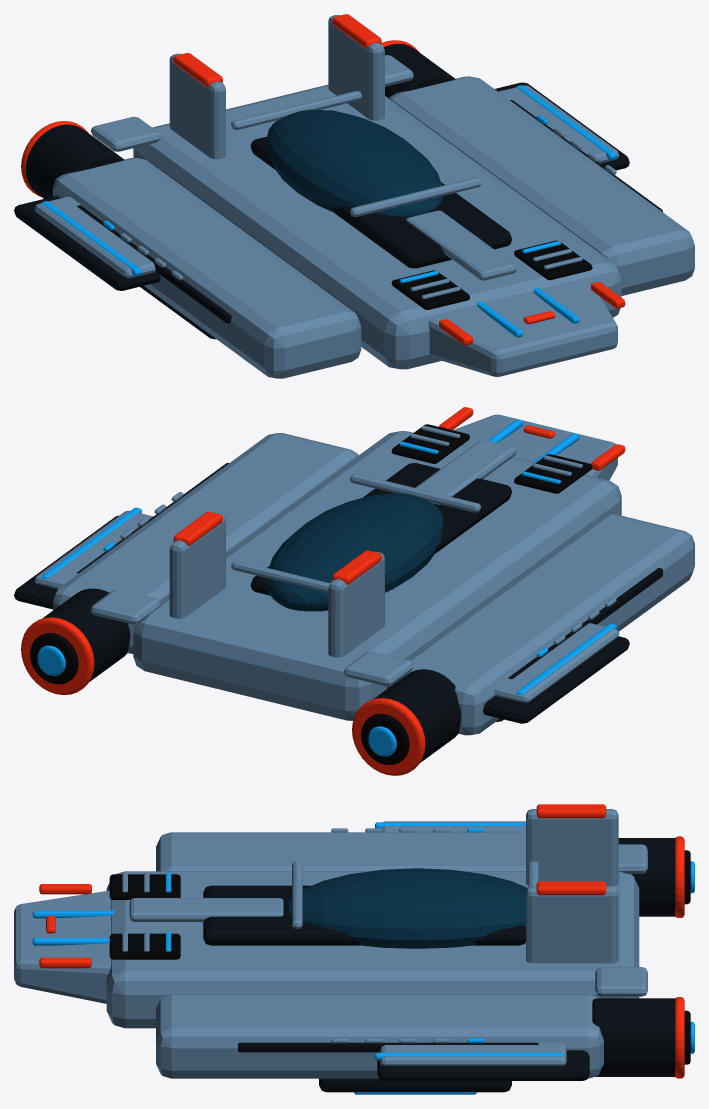
Rendered from EclipseRacer.obj.
3 renders of one model, top to bottom at view 1: azimuth 30°, elevation 25°; view 2: azimuth 150°, elevation 25°; view 3: azimuth 270°, elevation 25°, orthographic.
Parts seen in each view (by area): view 1: EclipseRacer; view 2: EclipseRacer; view 3: EclipseRacer.
Part boxes in pixels (<box>): EclipseRacer: <box>14,14,694,378</box>; EclipseRacer: <box>14,407,694,775</box>; EclipseRacer: <box>14,804,694,1094</box>.
Size of the model in its own units: 7.65 by 2.31 by 8.82.
